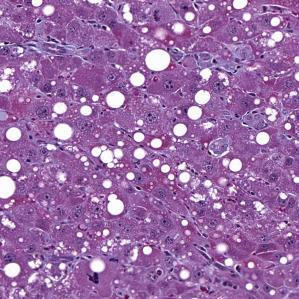fibrosis: (189, 53, 252, 80)
